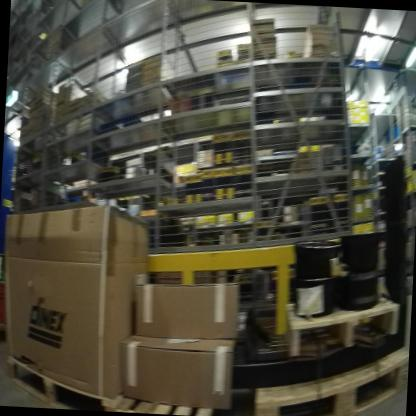pallet: (252, 335, 407, 416), (278, 272, 403, 369), (2, 349, 136, 406), (118, 372, 237, 416), (0, 320, 13, 348)
